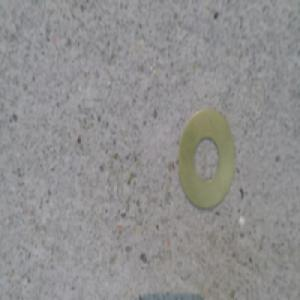Washer: (177, 104, 236, 211)
